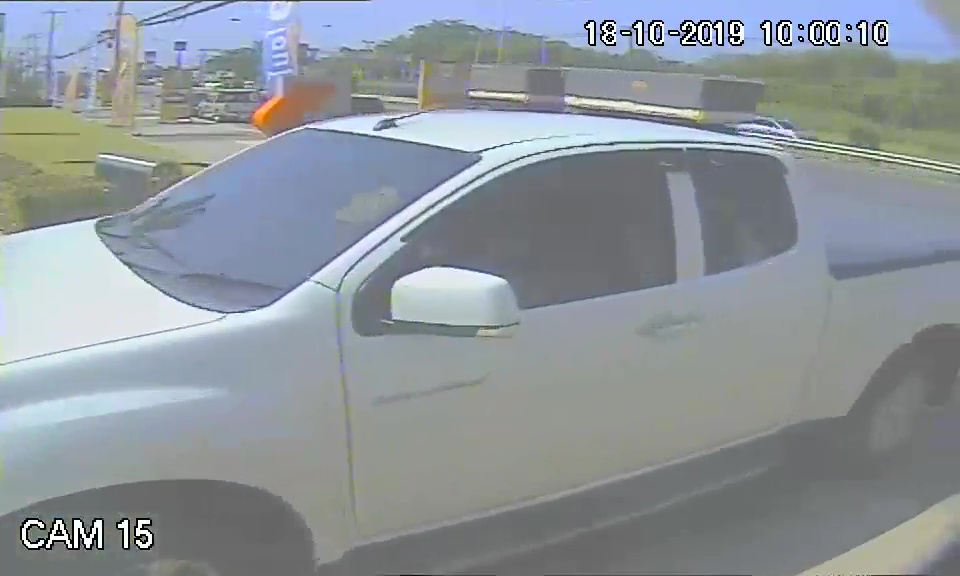pickup: (7, 106, 960, 515)
